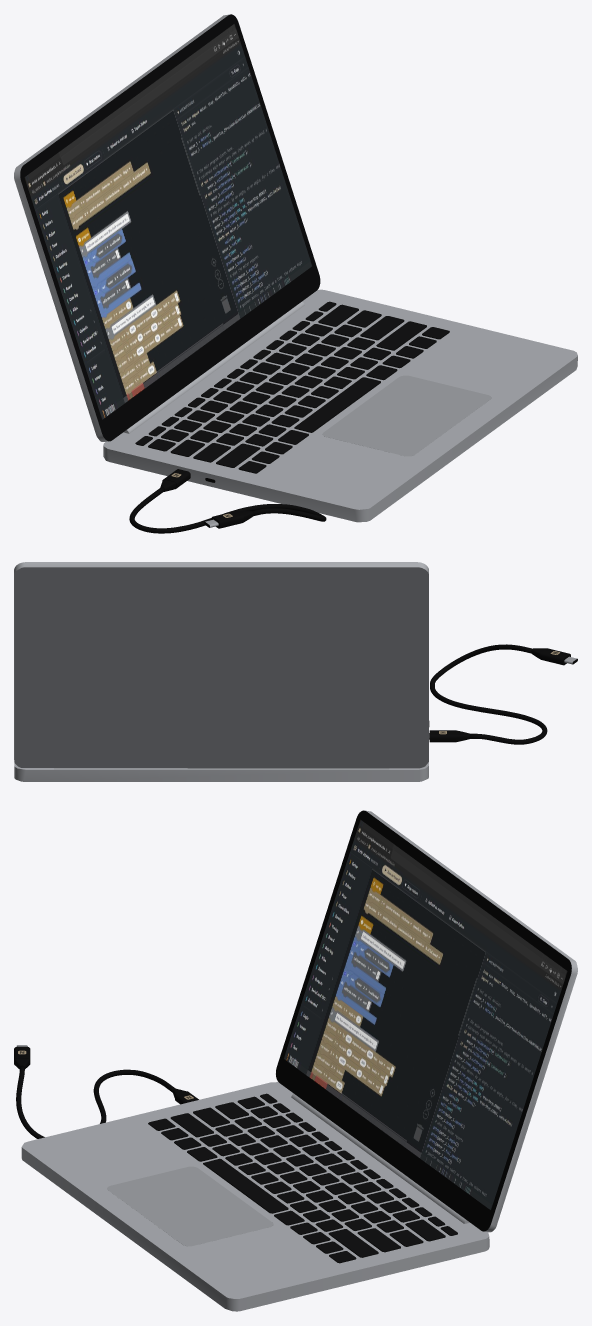
Rendered from scene_laptop.glb.
The picture shows the model from 3 angles, top to bottom: view 1: azimuth 30°, elevation 25°; view 2: azimuth 150°, elevation 25°; view 3: azimuth 270°, elevation 25°; orthographic projection. The views are drawn at different scales.
Parts seen in each view (by area): view 1: lego_laptop_0_laptop_screen, lego_laptop_0_laptop_base, lego_laptop_0_laptop_keycaps, lego_laptop_0_laptop_lid, lego_laptop_0_laptop_trackpad, lego_laptop_usb_c_cable_usb_c, lego_laptop_0_laptop_hinge; view 2: lego_laptop_0_laptop_lid, lego_laptop_0_laptop_base, lego_laptop_usb_c_cable_usb_c, lego_laptop_0_laptop_hinge, lego_laptop_usb_c_plug_laptop_overmold, lego_laptop_usb_c_plug_board_overmold; view 3: lego_laptop_0_laptop_screen, lego_laptop_0_laptop_base, lego_laptop_0_laptop_keycaps, lego_laptop_0_laptop_lid, lego_laptop_0_laptop_trackpad, lego_laptop_usb_c_cable_usb_c, lego_laptop_0_laptop_hinge.
Boxes of the visible parts, x1,y1,x2,y2 form: lego_laptop_0_laptop_screen: (24,24,311,419); lego_laptop_0_laptop_base: (103,289,577,522); lego_laptop_0_laptop_keycaps: (135,301,449,473); lego_laptop_0_laptop_lid: (14,14,320,441); lego_laptop_0_laptop_trackpad: (322,375,491,456); lego_laptop_usb_c_cable_usb_c: (129,487,326,533); lego_laptop_0_laptop_hinge: (123,301,304,433); lego_laptop_0_laptop_lid: (14,562,428,768); lego_laptop_0_laptop_base: (14,762,428,781); lego_laptop_usb_c_cable_usb_c: (430,644,547,744); lego_laptop_0_laptop_hinge: (54,768,389,769); lego_laptop_usb_c_plug_laptop_overmold: (429,730,456,742); lego_laptop_usb_c_plug_board_overmold: (540,648,570,665); lego_laptop_0_laptop_screen: (284,819,567,1209); lego_laptop_0_laptop_base: (21,1082,489,1311); lego_laptop_0_laptop_keycaps: (148,1093,457,1263); lego_laptop_0_laptop_lid: (276,810,577,1232); lego_laptop_0_laptop_trackpad: (107,1166,273,1246); lego_laptop_usb_c_cable_usb_c: (16,1065,175,1138); lego_laptop_0_laptop_hinge: (291,1093,469,1223).
Bounding box in the file's own units: 4.13 × 2.15 × 4.11.
11 materials, 2 textured.
